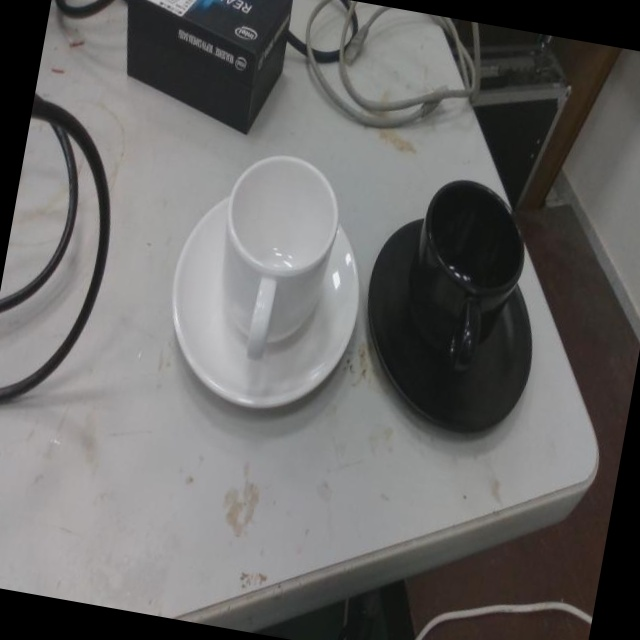black: (366, 177, 542, 437)
white: (172, 147, 364, 418)
